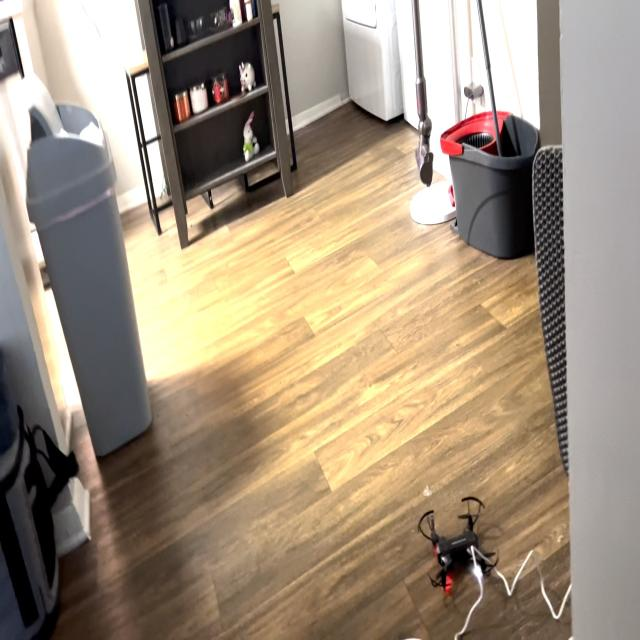drone: (415, 490, 501, 608)
